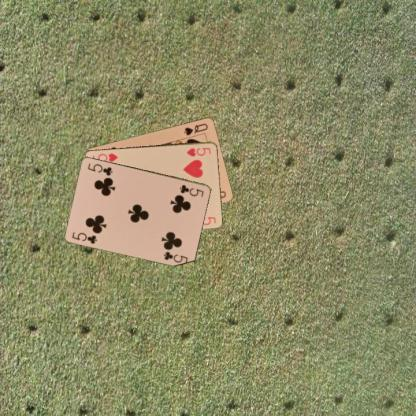5c: (177, 182, 205, 198), (70, 229, 98, 245)
5h: (184, 145, 212, 157)
Qs: (182, 121, 209, 136)
